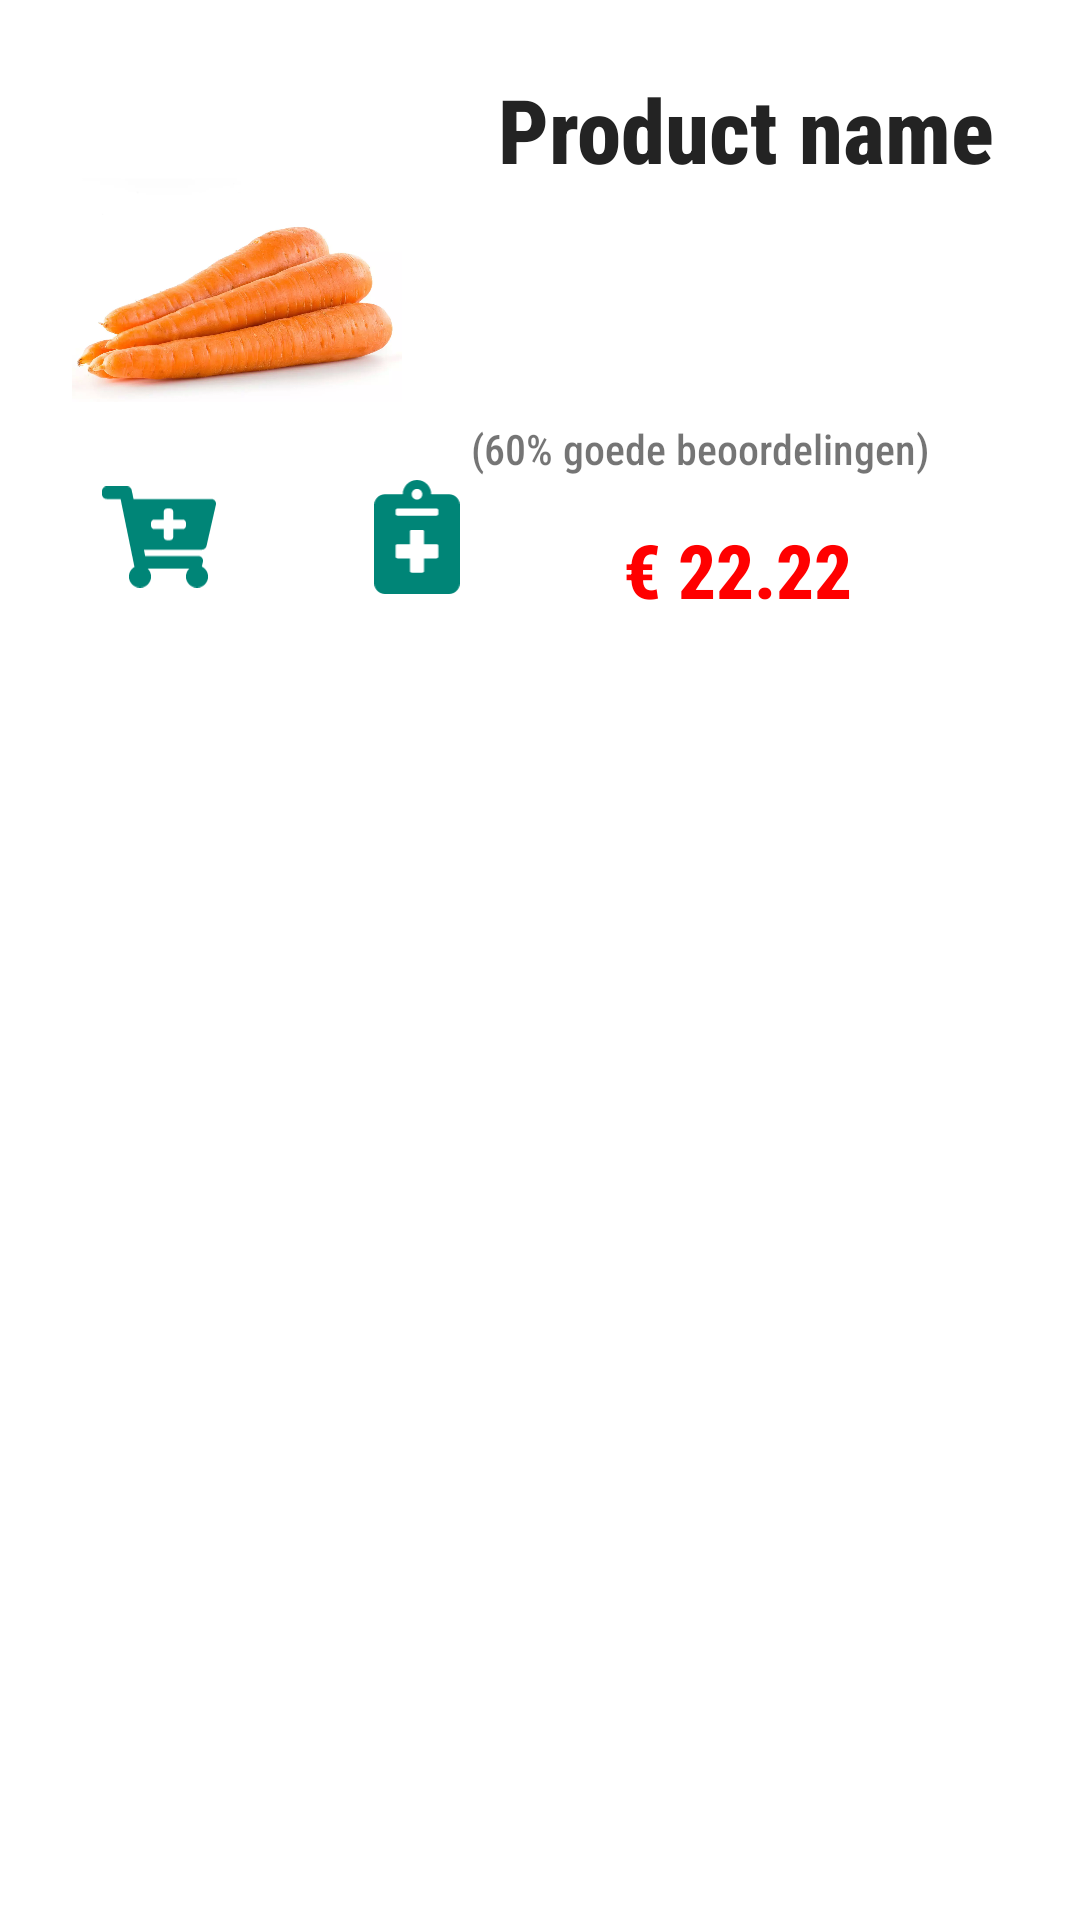

Screen size 1080 x 1920. Icon name, then its center in pixels as point (x, y):
cart plus: point (159, 537)
notes medical: point (417, 537)
